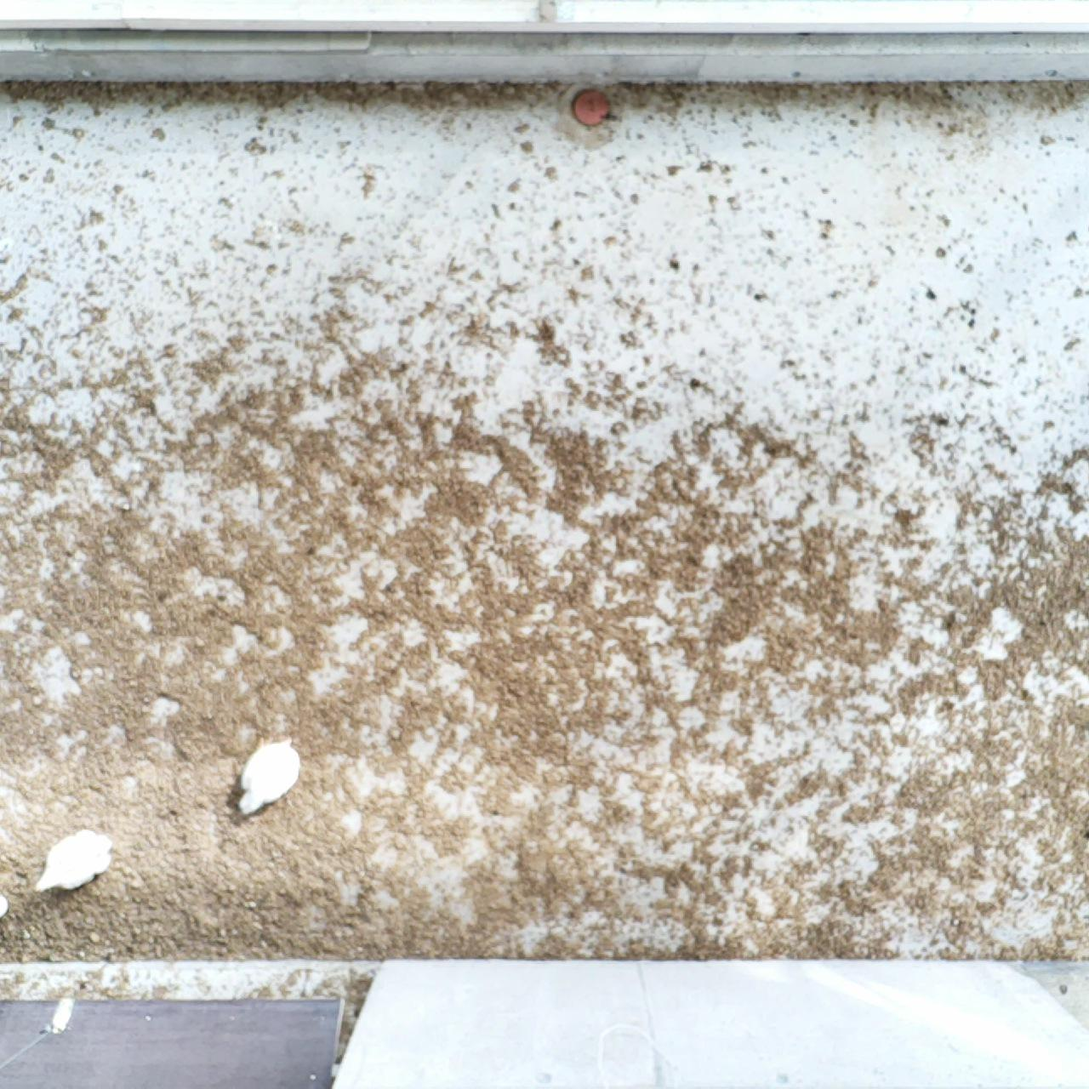chicken: (237, 739, 302, 822), (34, 828, 114, 895), (0, 893, 8, 921)
